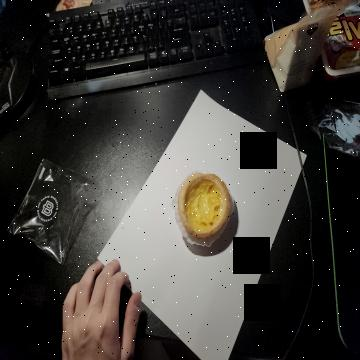EggTart: (177, 171, 232, 239)
